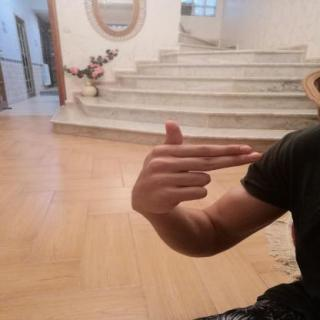GHAYN: (118, 115, 274, 220)
